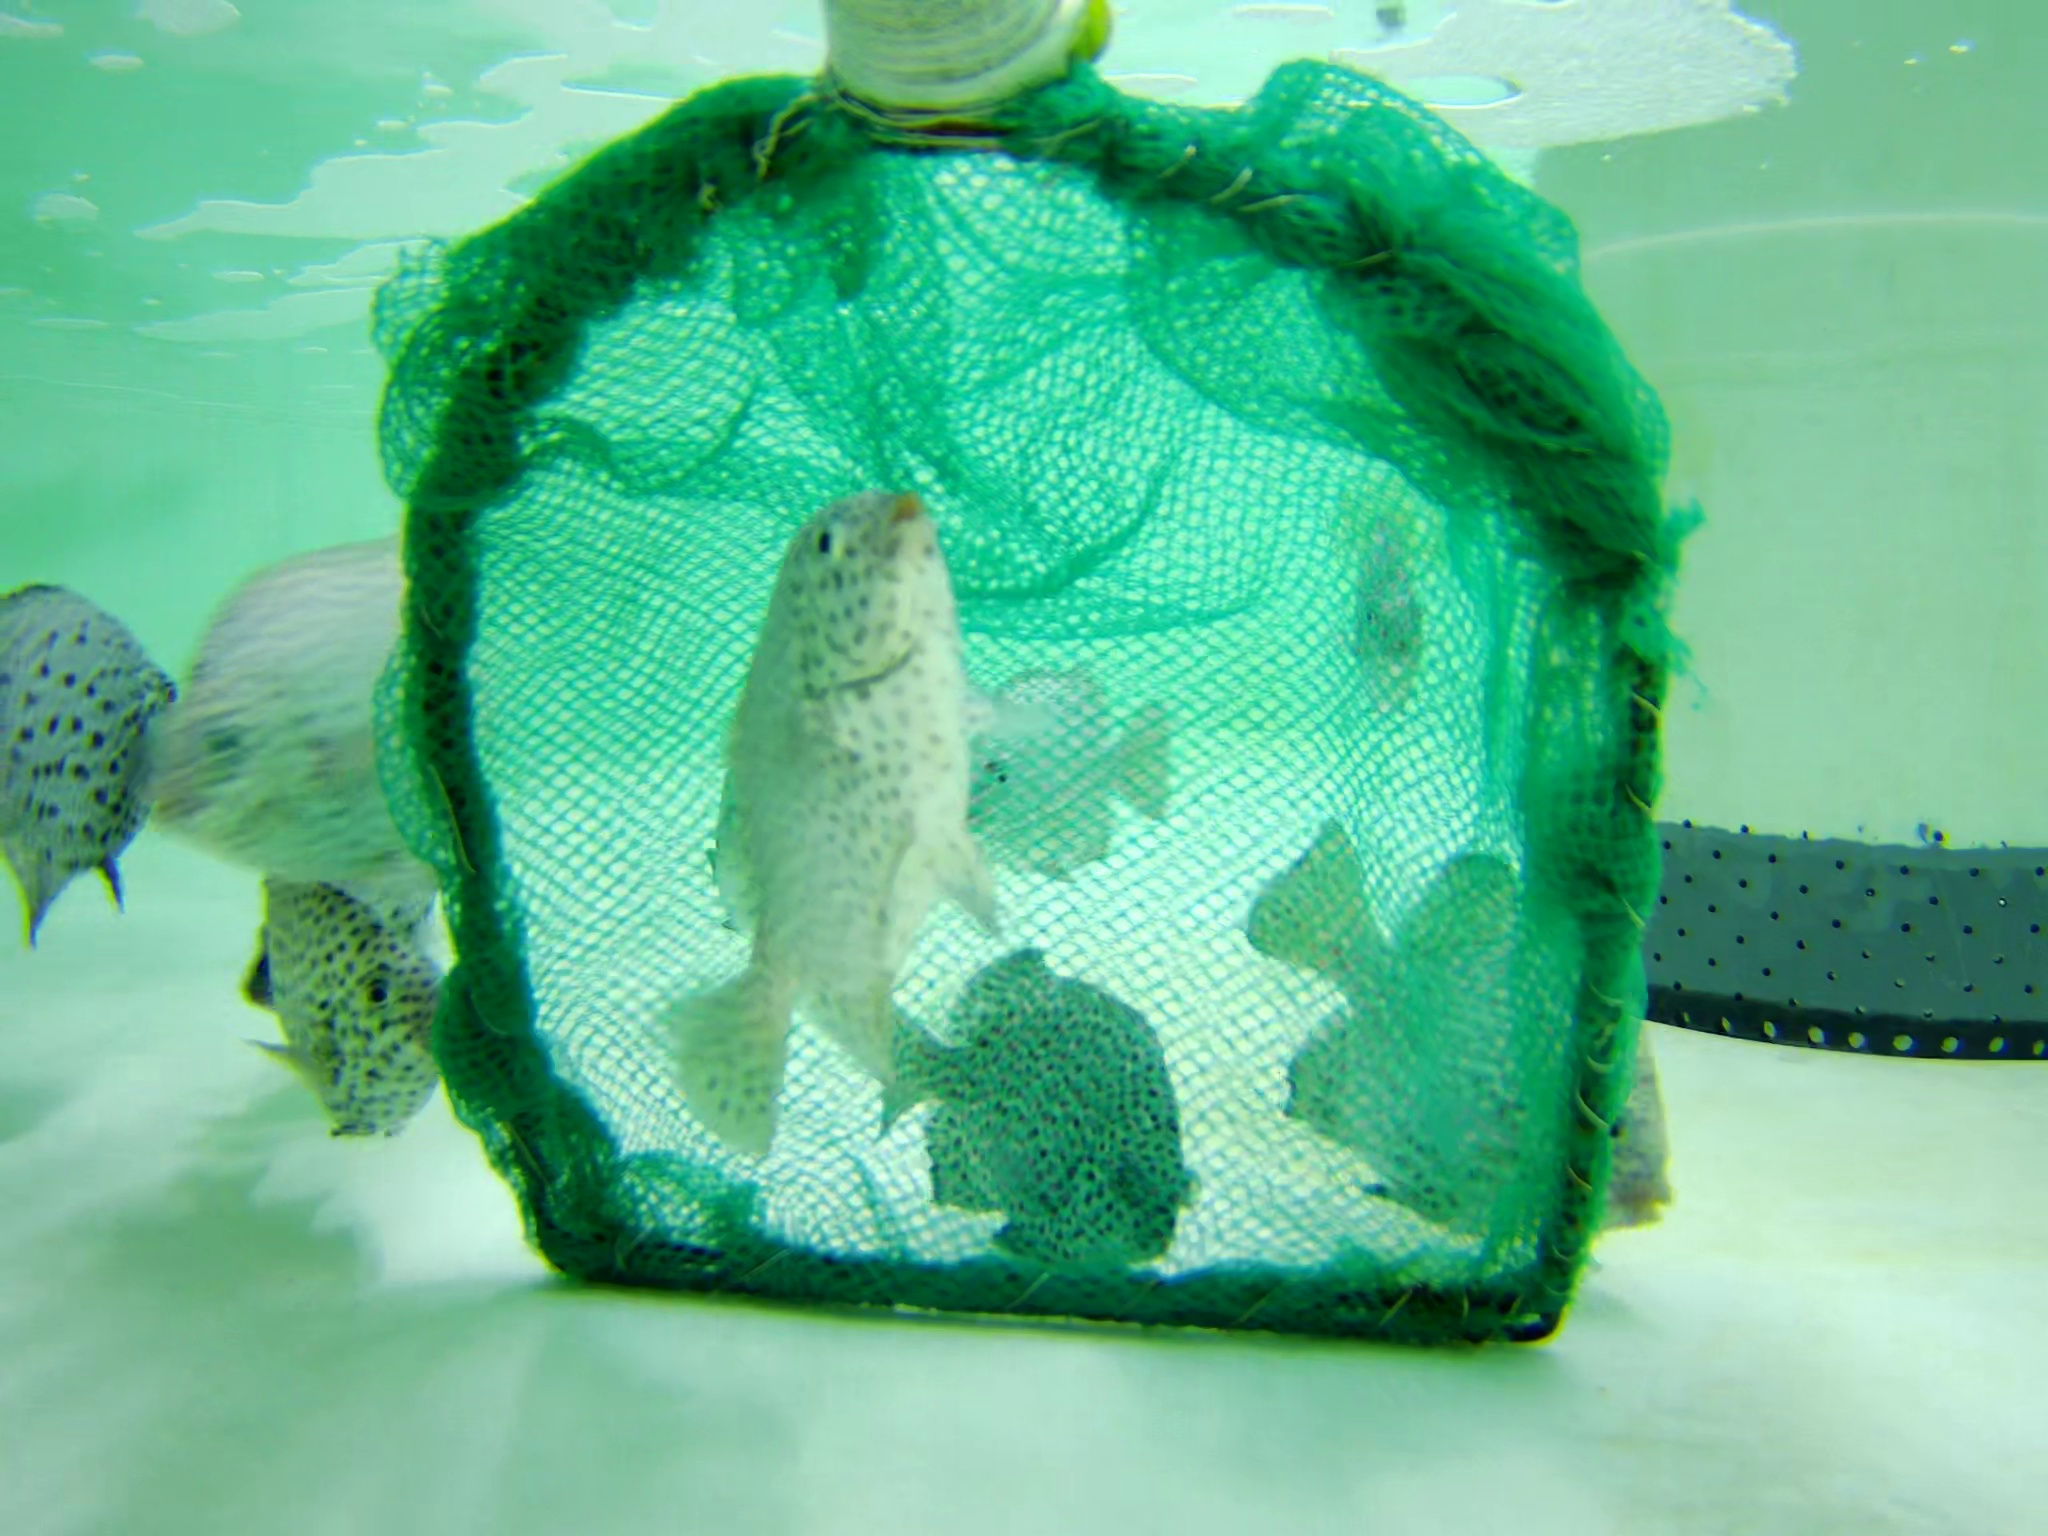fish: (663, 473, 939, 1141), (1250, 816, 1672, 1242), (161, 537, 461, 910), (840, 936, 1161, 1270), (2, 570, 195, 934), (216, 834, 439, 1131), (966, 663, 1176, 871), (1351, 518, 1417, 708)
